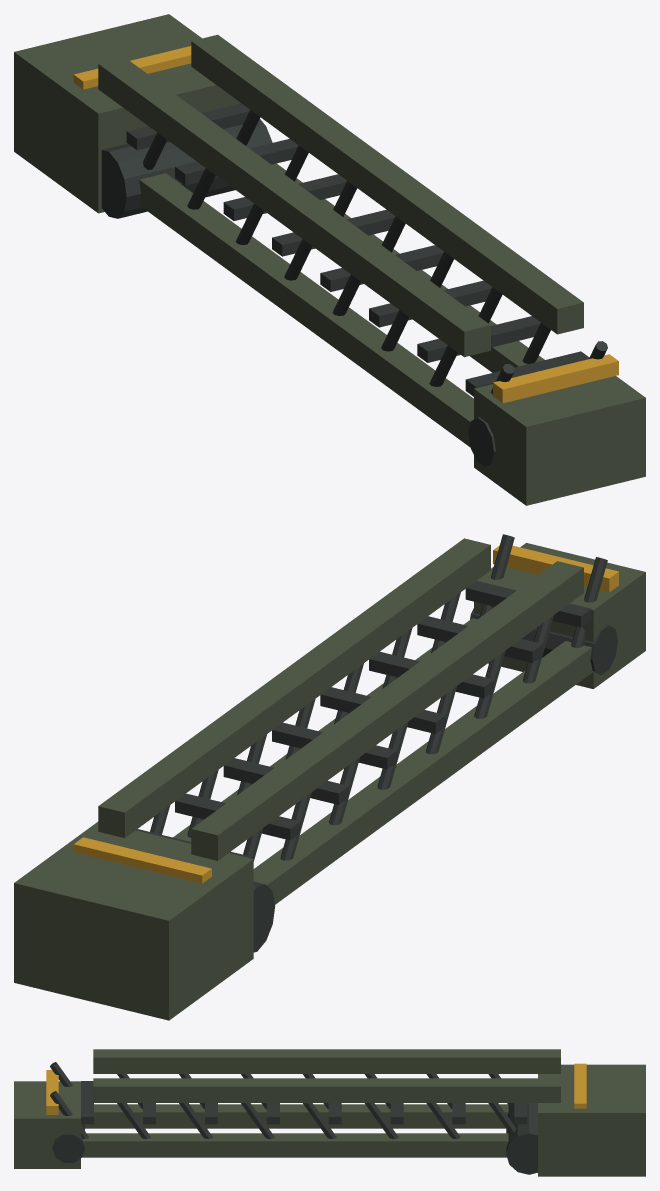
The model's file is Bastion_FabricationHub_CraneBoomPitch.obj.
3 renders of one model, top to bottom at view 1: azimuth 30°, elevation 25°; view 2: azimuth 150°, elevation 25°; view 3: azimuth 270°, elevation 25°, orthographic. The views are drawn at different scales.
Visible parts, largest first — view 1: Bastion_FabricationHub_CraneBoomPitch; view 2: Bastion_FabricationHub_CraneBoomPitch; view 3: Bastion_FabricationHub_CraneBoomPitch.
Part boxes in pixels (box(x1,y1,x2,y2)): Bastion_FabricationHub_CraneBoomPitch: box(14, 14, 645, 505); Bastion_FabricationHub_CraneBoomPitch: box(14, 534, 645, 1020); Bastion_FabricationHub_CraneBoomPitch: box(14, 1049, 645, 1176).
Size of the model in its own units: 1.4 by 1.14 by 7.73.
Materials: 1 (1 with a texture image).
